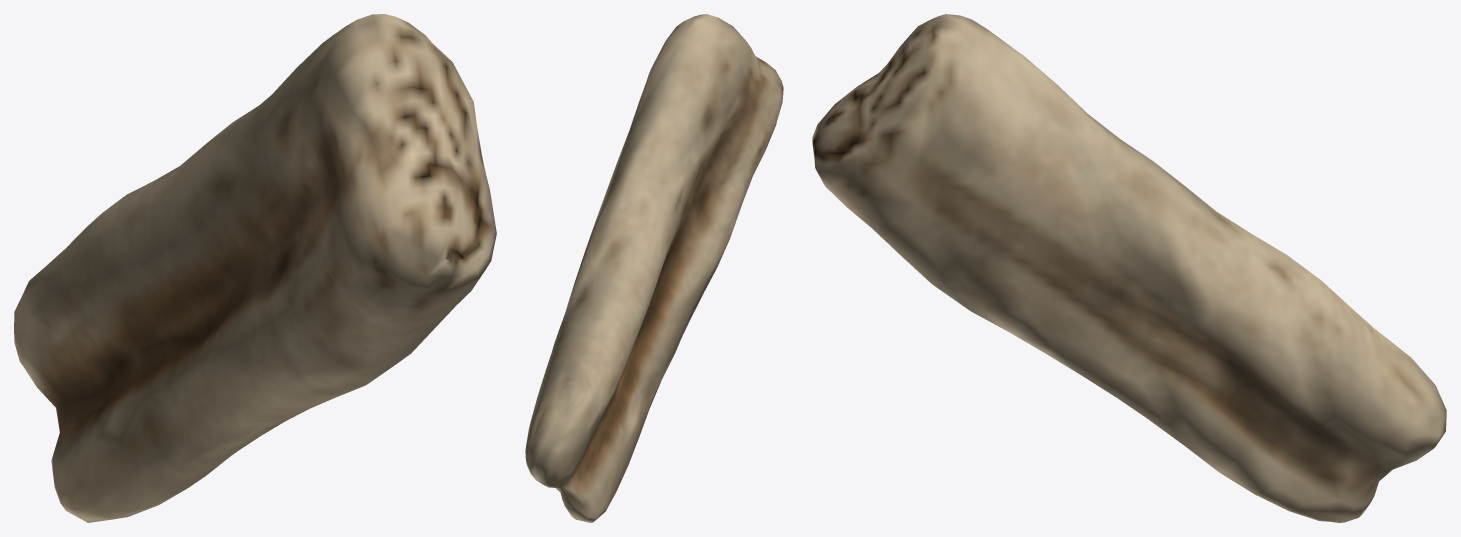
The model's file is Mandibular_Molar1.glb.
3 renders of one model, left to right at view 1: azimuth 30°, elevation 25°; view 2: azimuth 150°, elevation 25°; view 3: azimuth 270°, elevation 25°, orthographic. The views are drawn at different scales.
Parts seen in each view (by area): view 1: Mandibular_Molar1.glb; view 2: Mandibular_Molar1.glb; view 3: Mandibular_Molar1.glb.
Part boxes in pixels (x1,y1,x2,y2): Mandibular_Molar1.glb: [14, 14, 496, 522]; Mandibular_Molar1.glb: [525, 14, 783, 522]; Mandibular_Molar1.glb: [812, 14, 1446, 522].
Bounding box in the file's own units: 0.017 × 0.0669 × 0.0737.
1 material, 1 textured.
